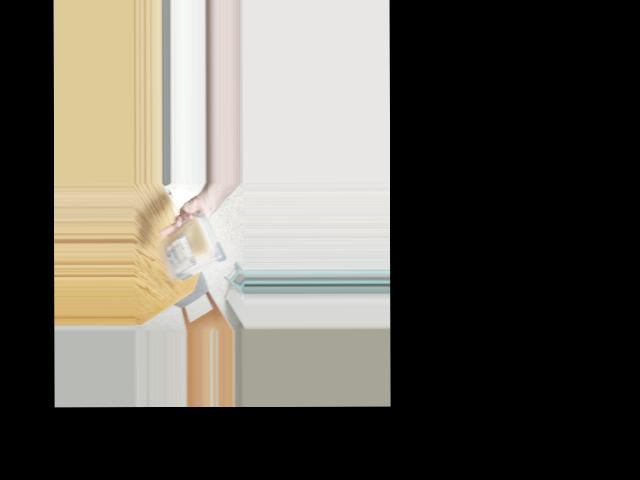cheese: (166, 213, 222, 285)
